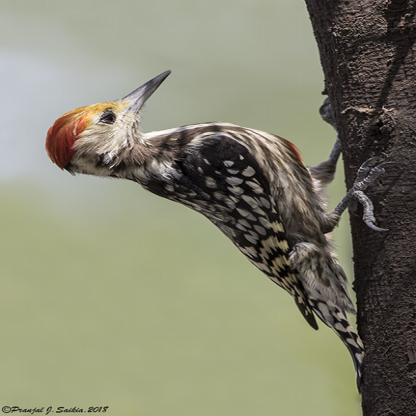Burung: (46, 69, 393, 391)
